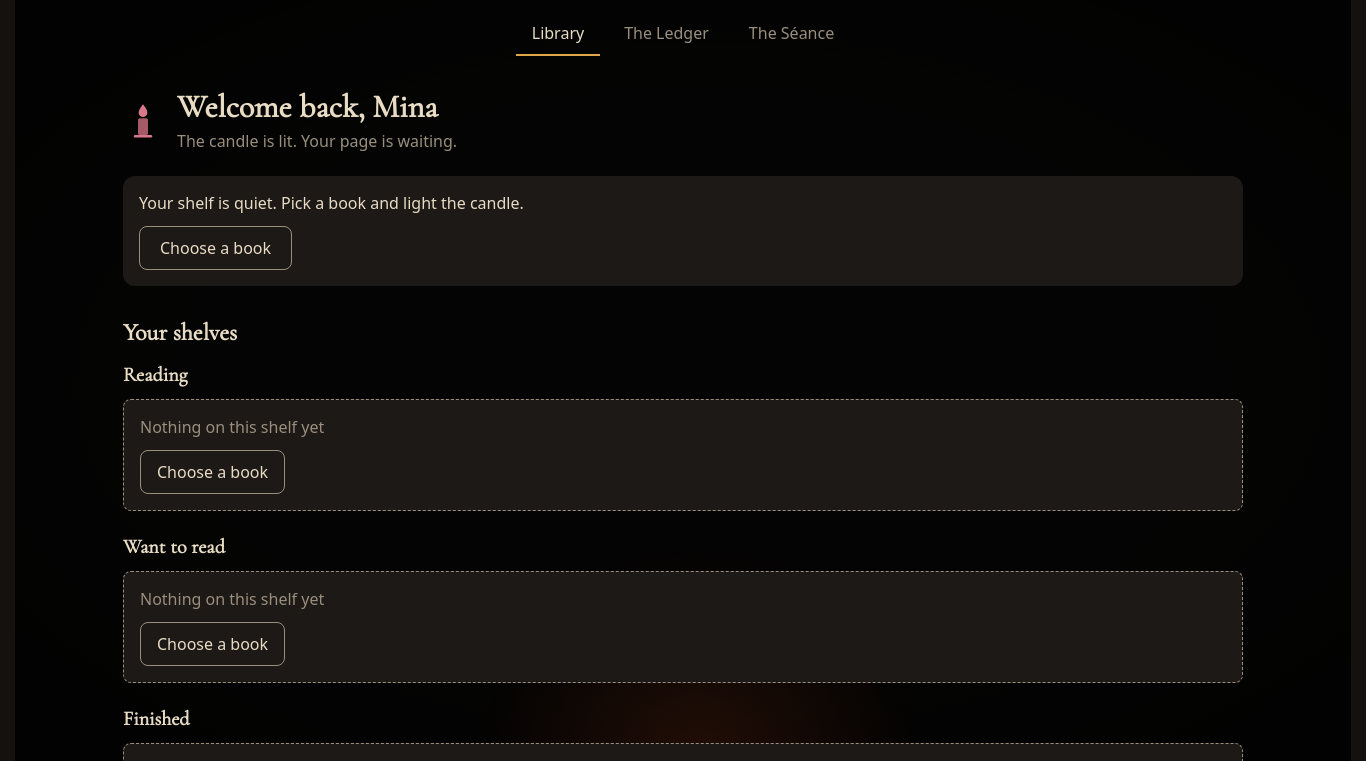
Clear my data through the real shell (Req 2.x, 12.4) › lastTab: the saved key is gone, but the in-memory ref still reopens the Séance after onboarding
Click the tab "The Séance" at x=792, y=34, box [733,12,850,56]
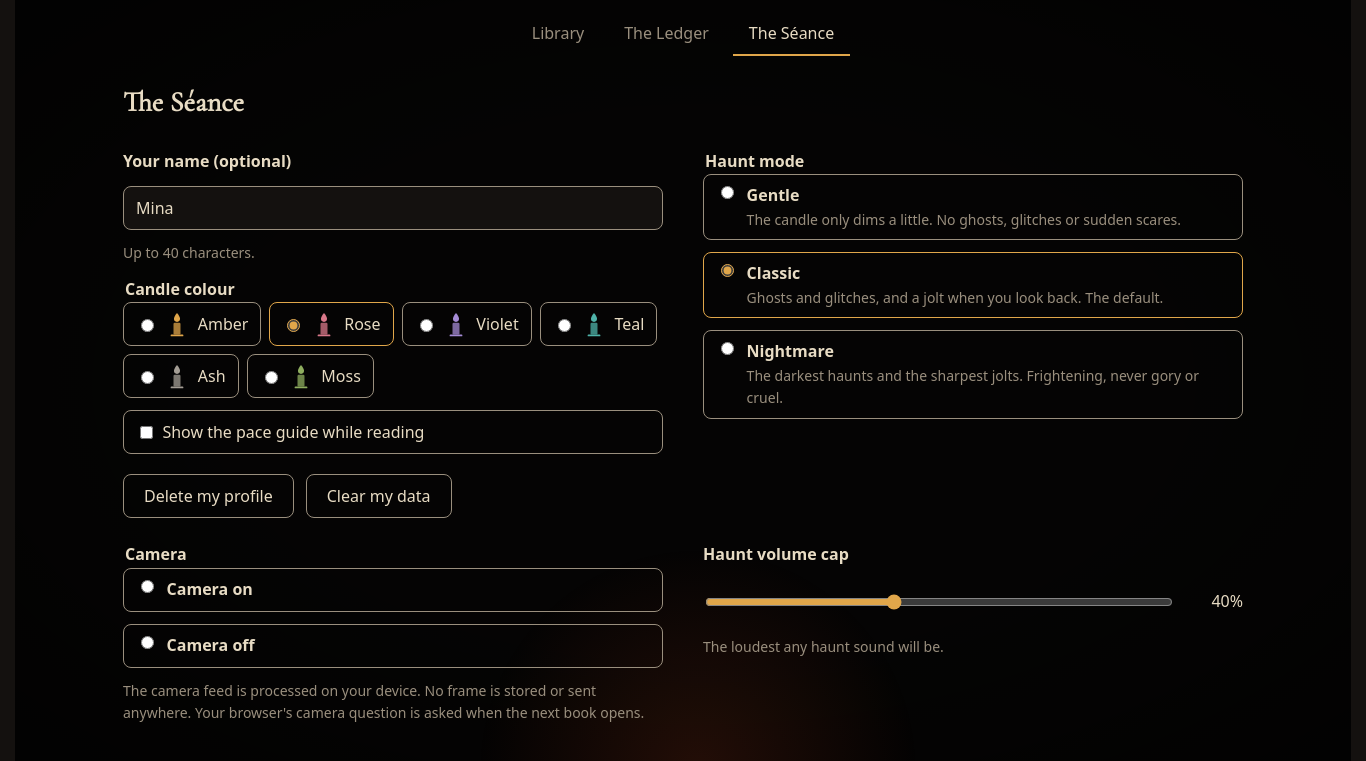
Set the slider labelled "Haunt volume cap" to "80" at x=1075, y=602, box [705,594,1173,610]
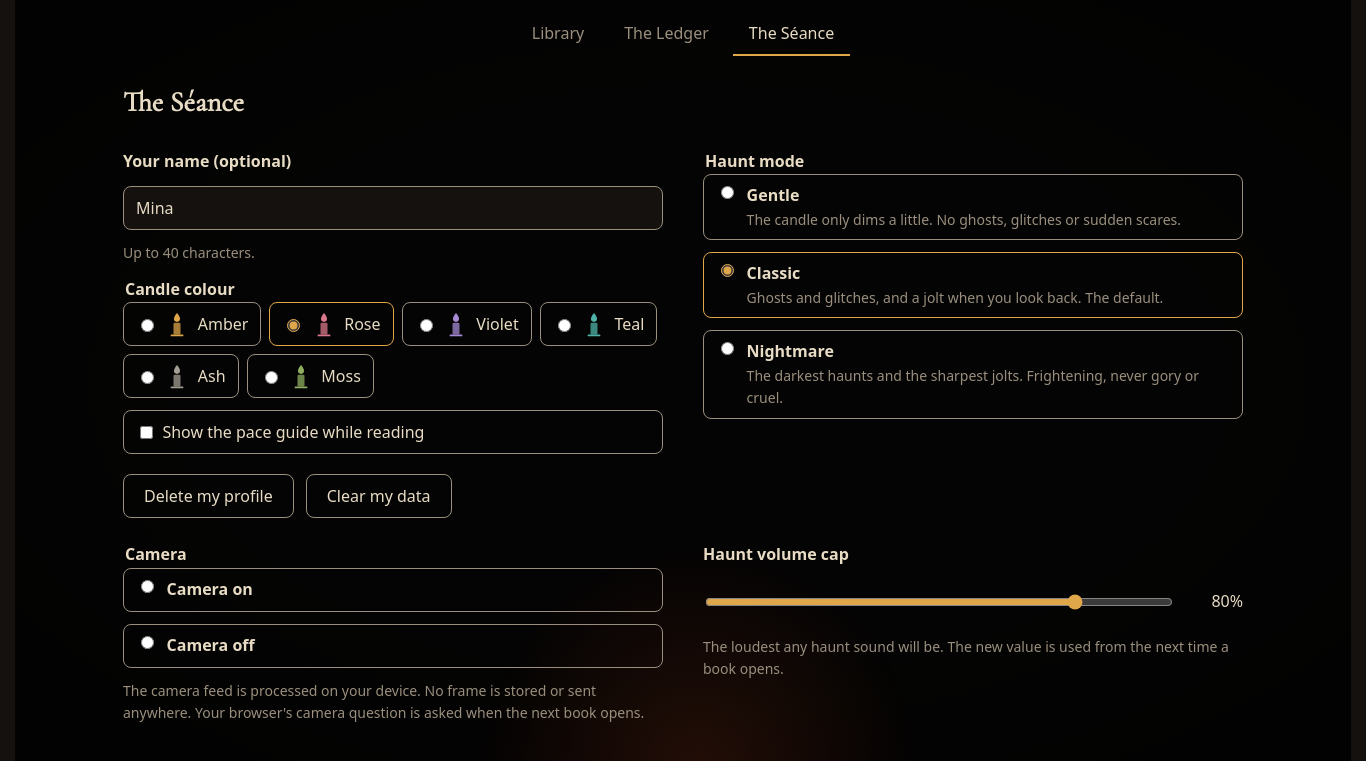
Click the button "Clear my data" at x=379, y=496, box [306,474,452,518]
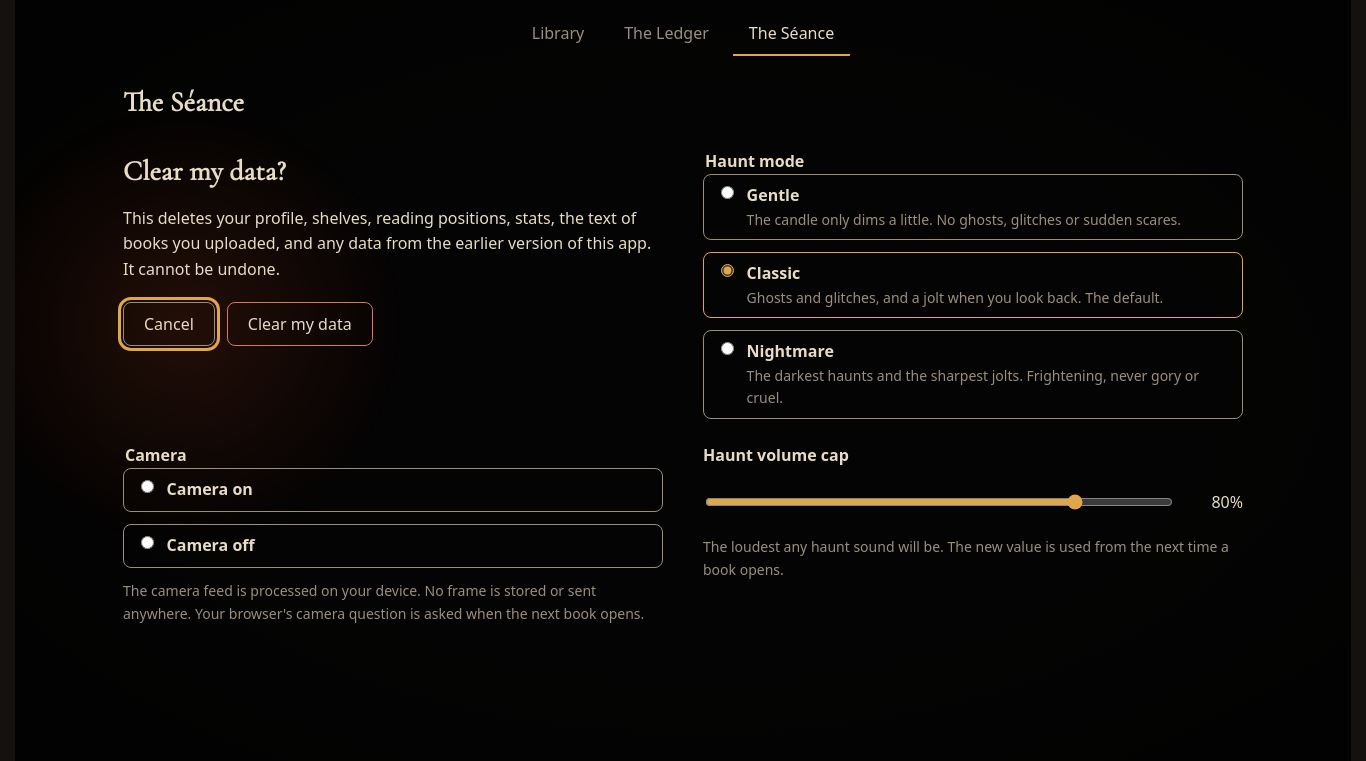
Click the button "Clear my data" at x=300, y=324, box [227,302,373,346]
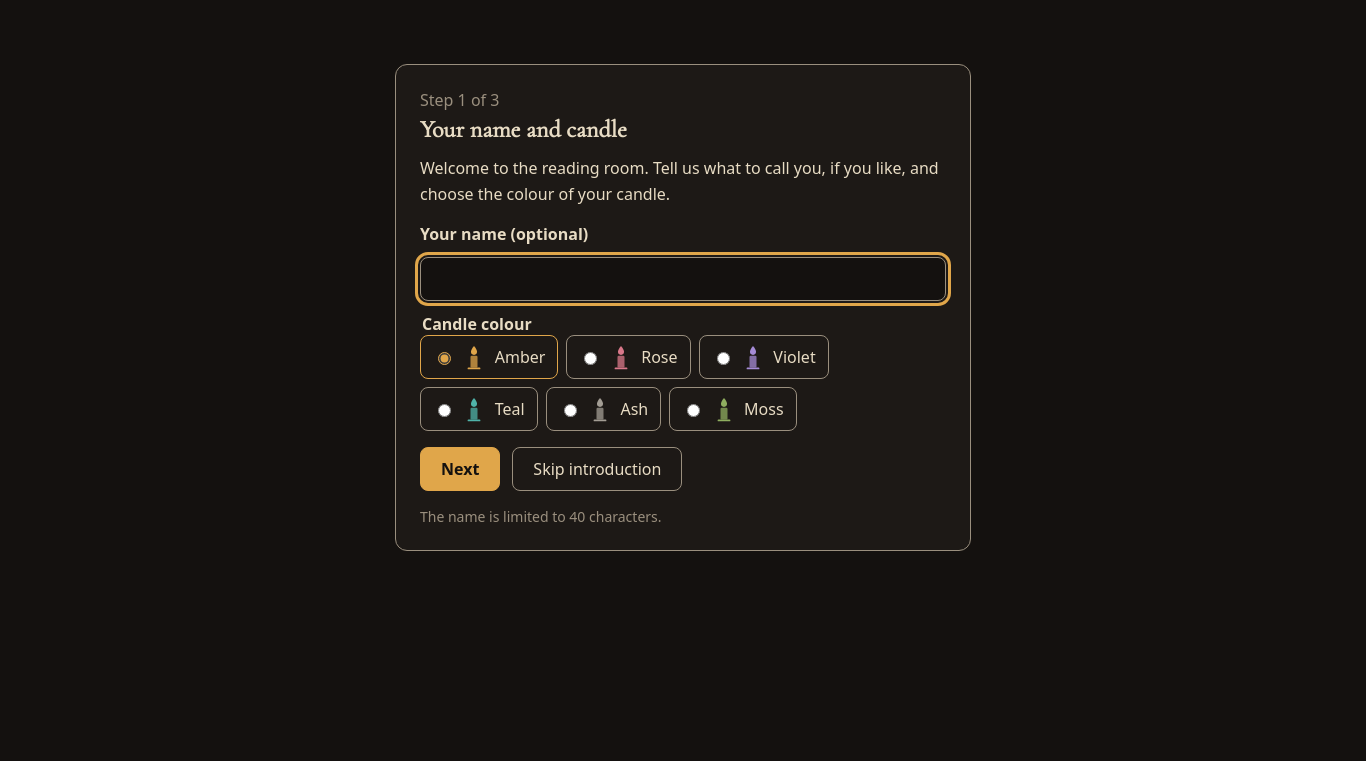
Check: the element "Your name and candle" is shown, box [395,64,971,551]
Click the button "Skip introduction" at x=597, y=469, box [512,447,682,491]
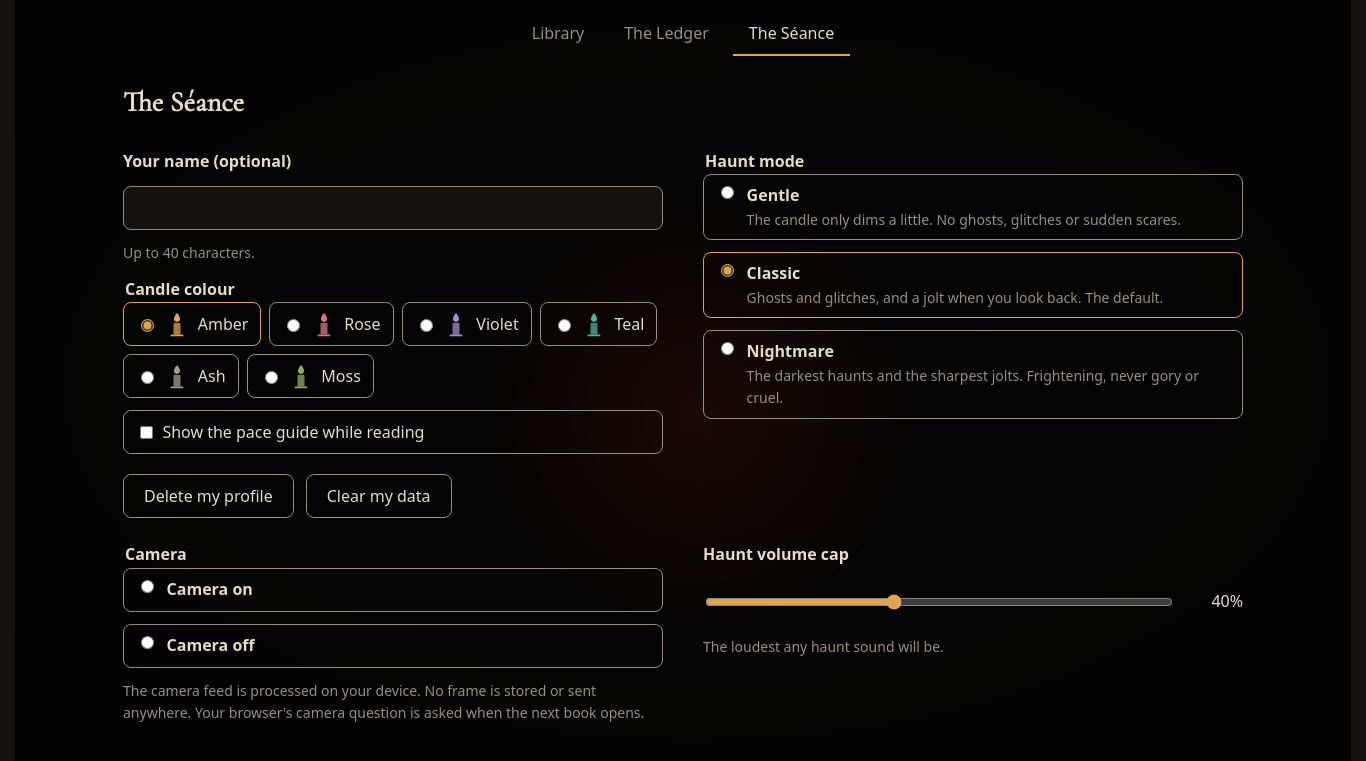
Check: the slider labelled "Haunt volume cap" holds "40", box [705,594,1173,610]
